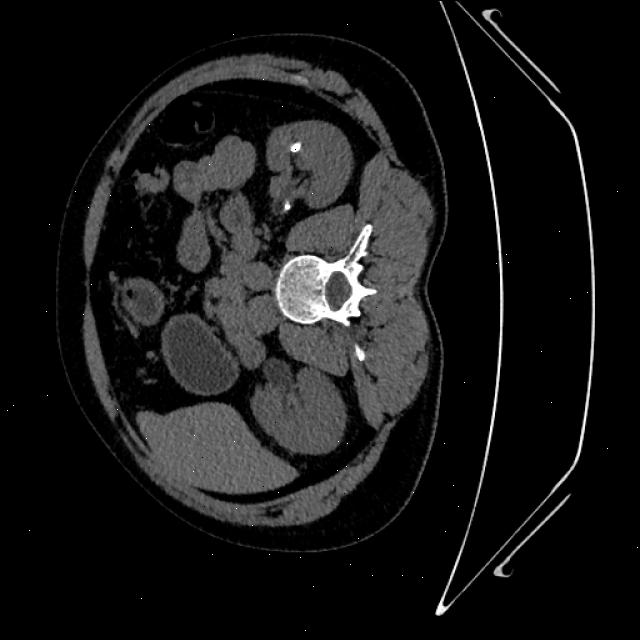kidneystone: (289, 142, 302, 151)
